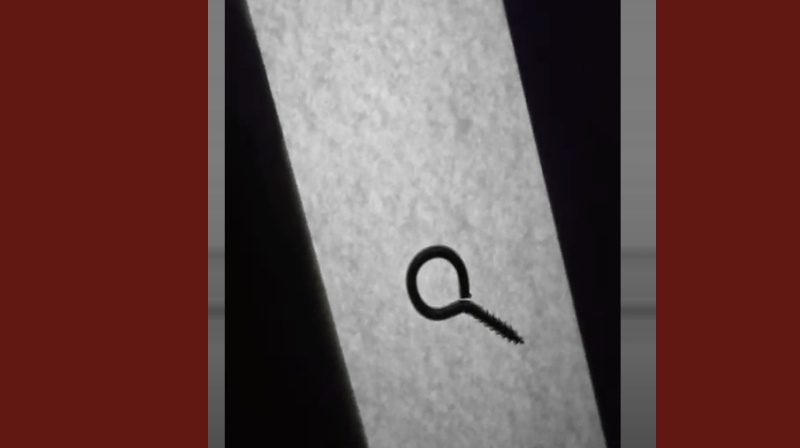O001: (401, 239, 530, 348)
